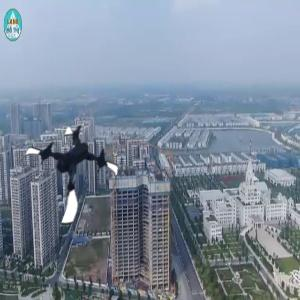drone: (17, 122, 123, 228)
